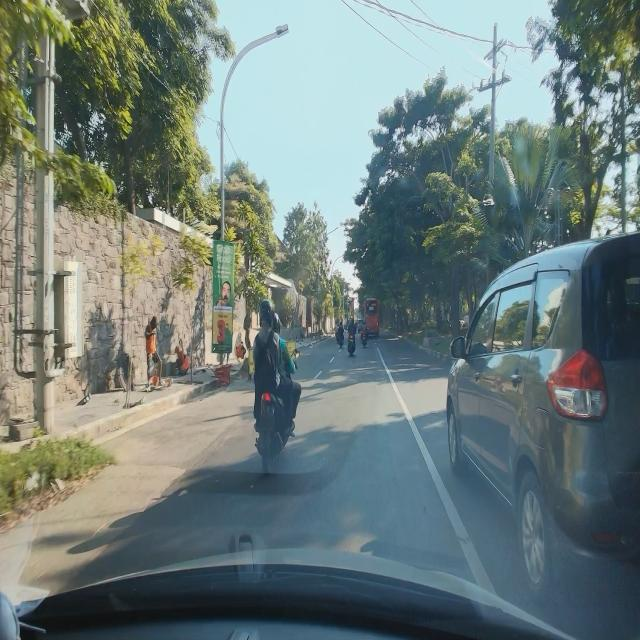bus: (363, 297, 380, 339)
car: (444, 227, 640, 594)
